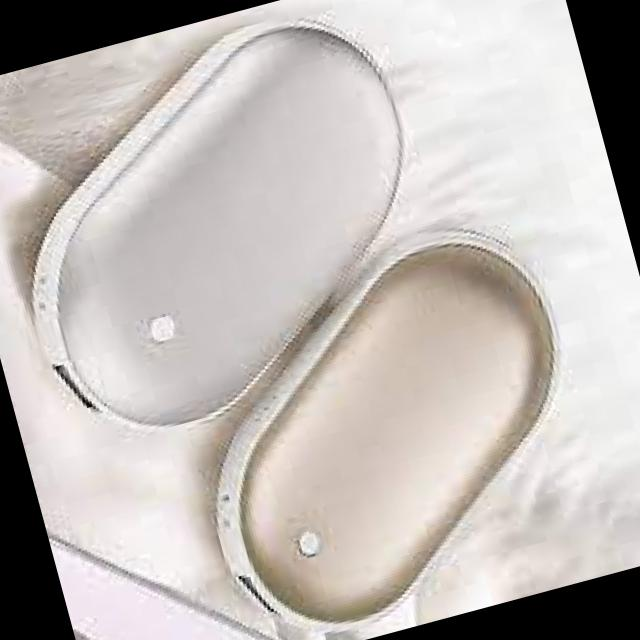portable-charger: (0, 0, 466, 464), (153, 207, 619, 640)
